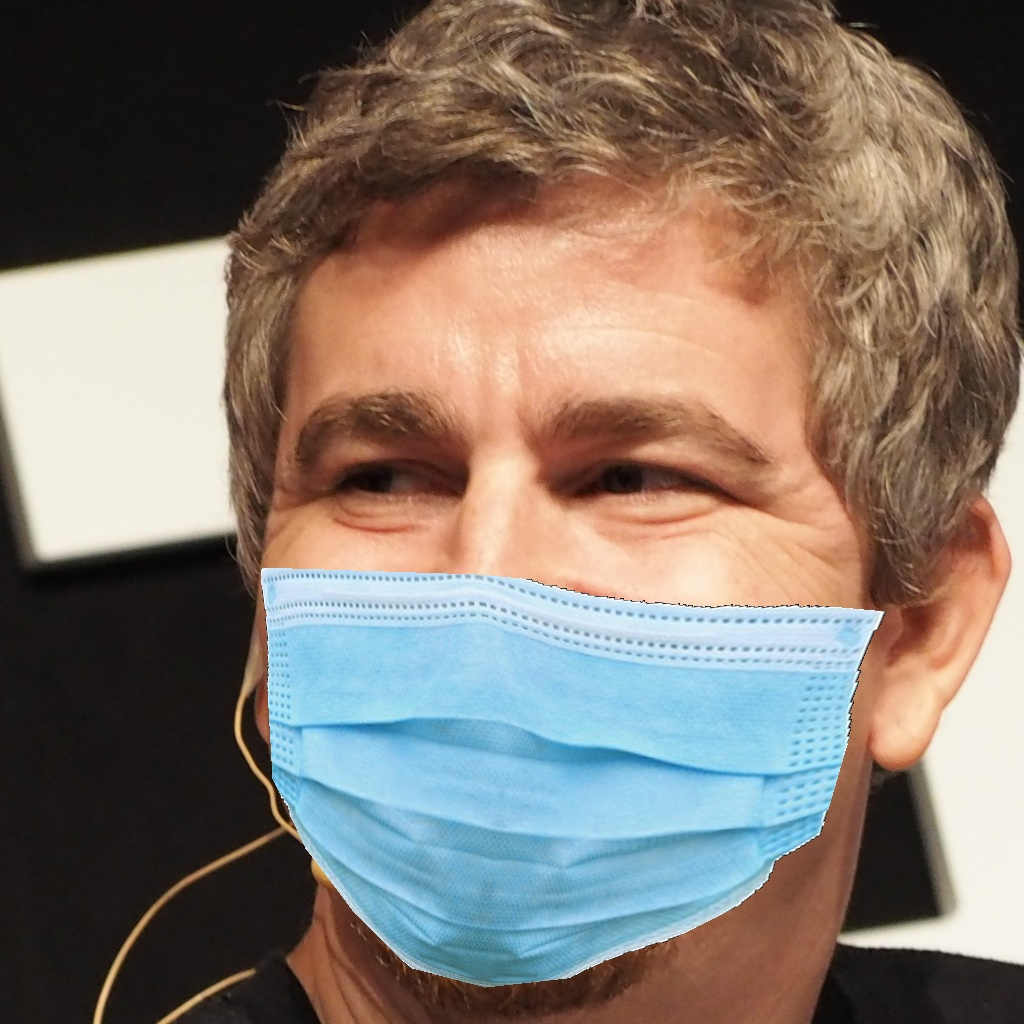Mask: (261, 367, 886, 1001)
